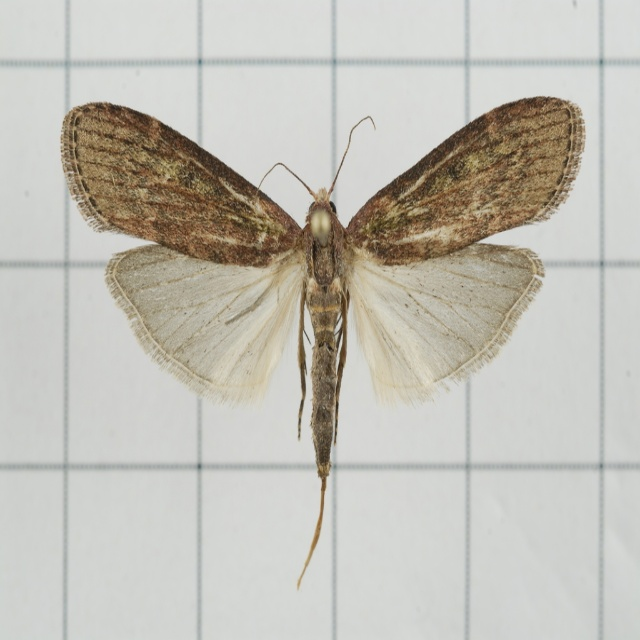Butterfly: (60, 92, 587, 586)
